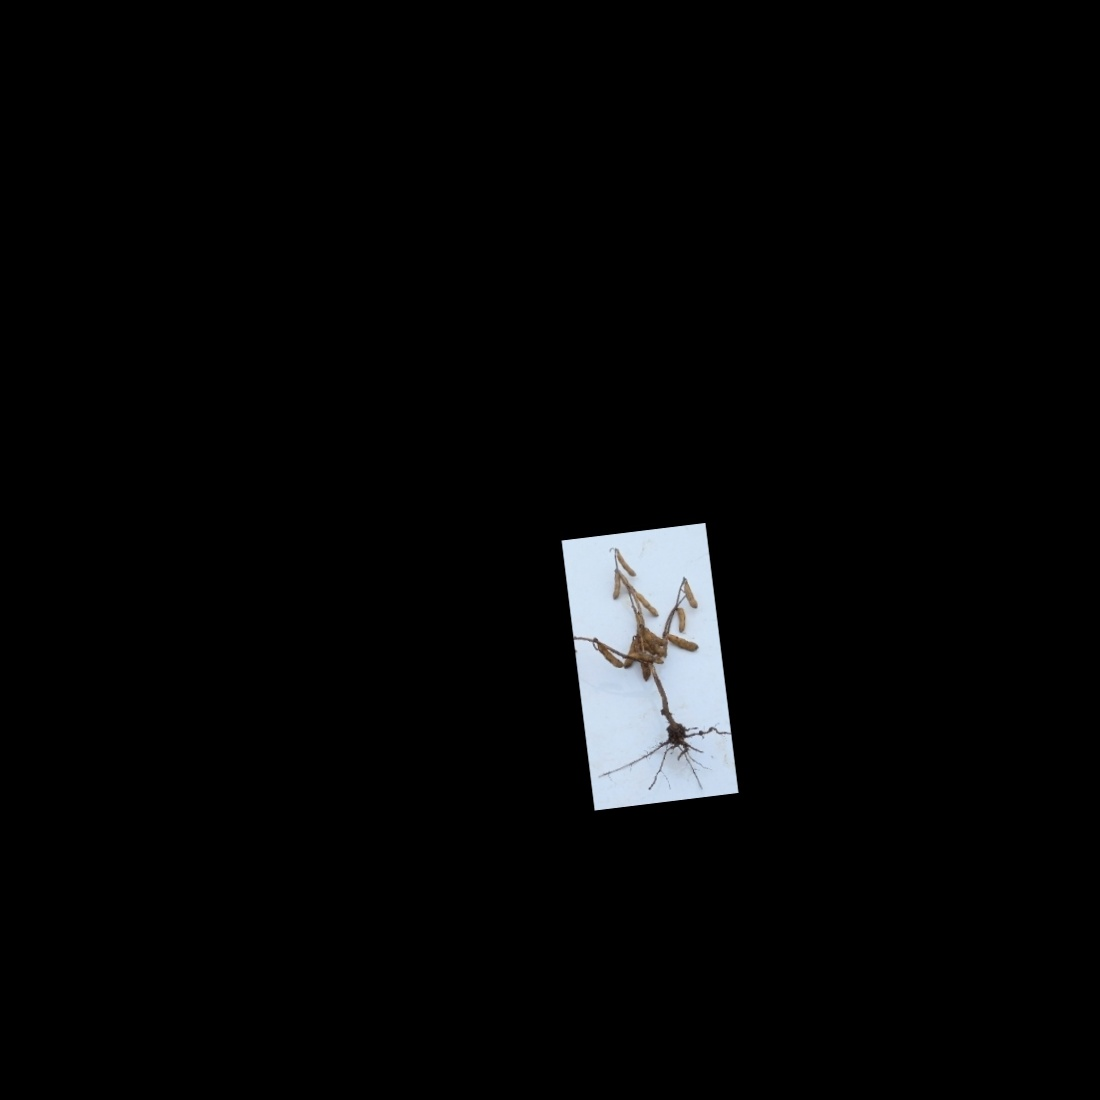pod: (666, 629, 700, 657), (633, 587, 660, 620), (614, 549, 638, 579), (682, 577, 700, 612), (607, 572, 623, 600), (637, 660, 653, 683)
soy: (576, 535, 731, 793)
